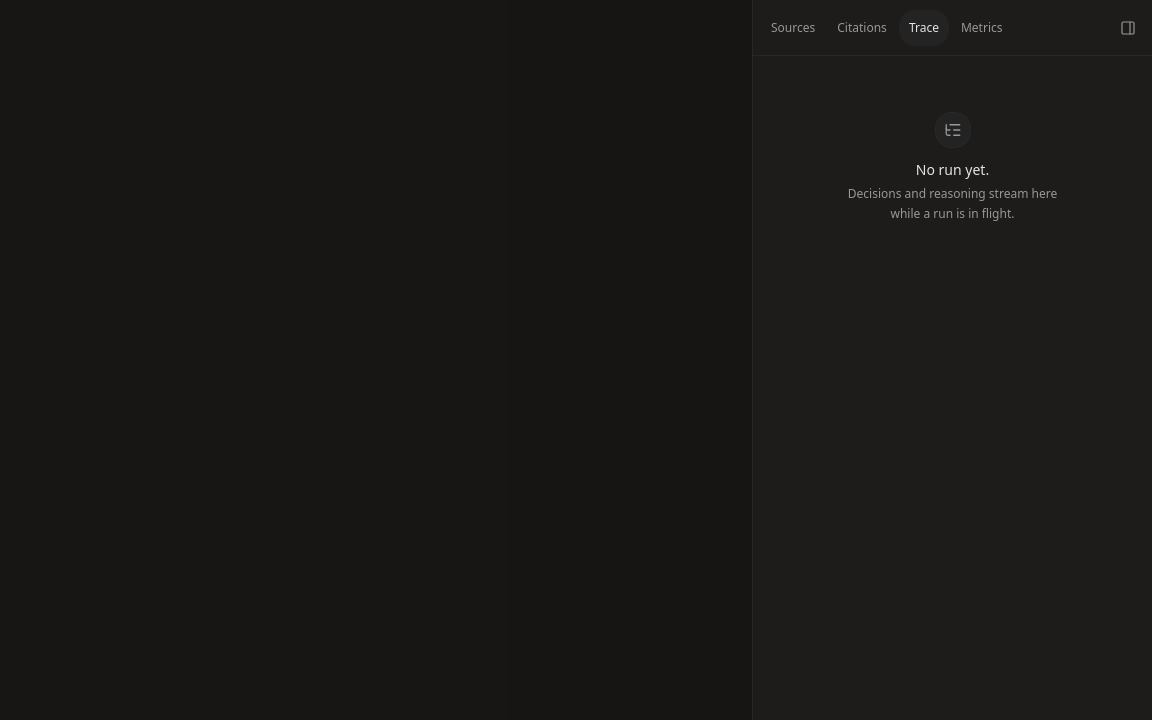
workspace panel empty states › Sources uses PanelEmpty when the chat has no documents
The image size is (1152, 720).
Click the tab "Sources" at {"x": 793, "y": 28}, box [761,10,825,46]
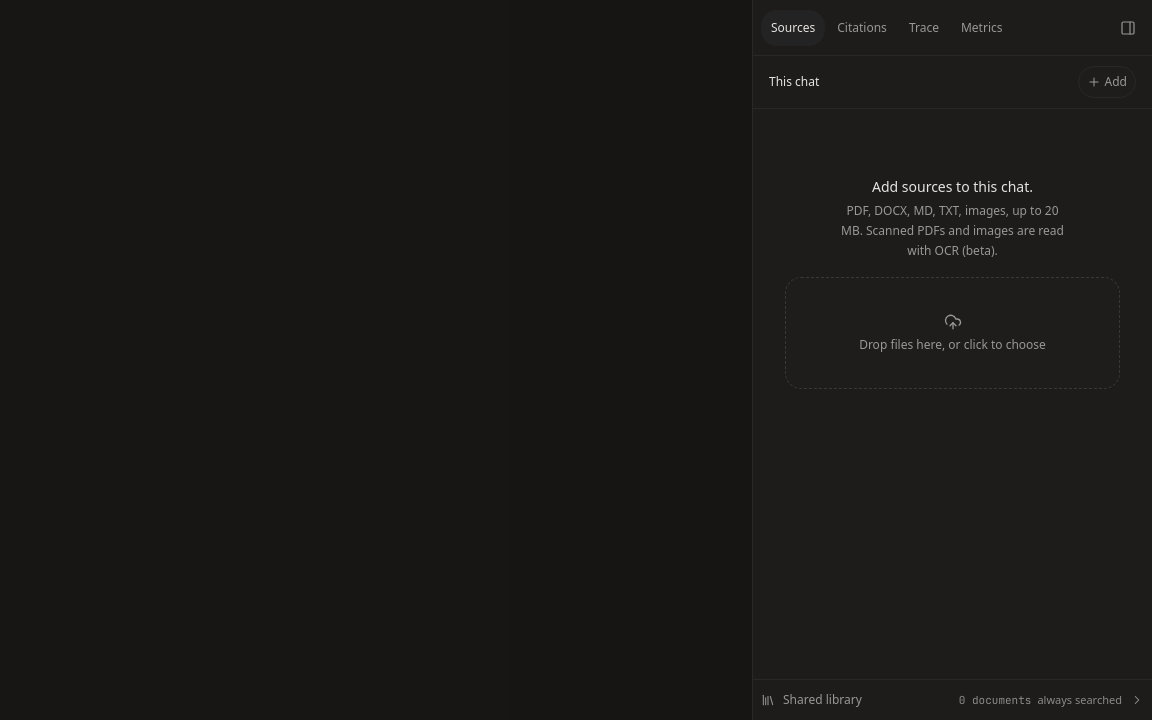
expect the text "Add sources to this chat." is shown: met, box [872,177,1033,197]
expect the text "PDF, DOCX, MD, TXT, images, up to 20 MB. Scanned PDFs and images are read with OCR (beta)." is shown: met, box [841,202,1064,259]
